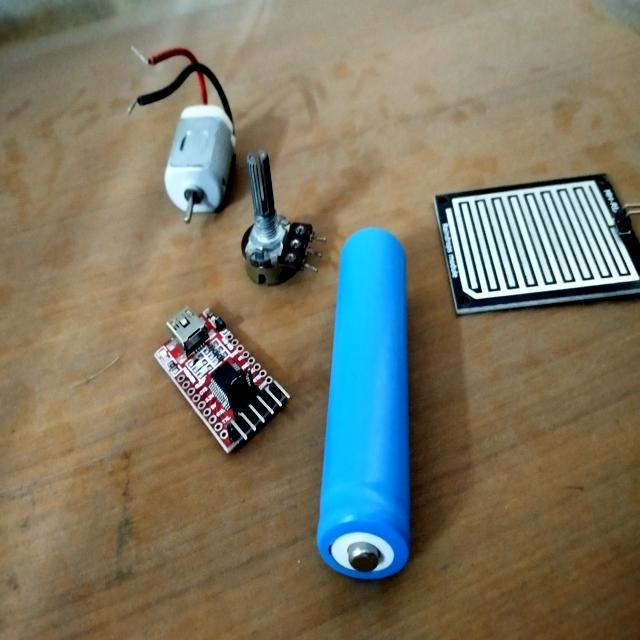3-3-Volt-Battery: (314, 222, 416, 588)
DC-Motor: (162, 100, 242, 232)
FT-232-USB-Serial-Module: (153, 302, 294, 462)
Raindrops-Module: (428, 166, 640, 324)
Taper-Potentiometer: (239, 151, 329, 289)
